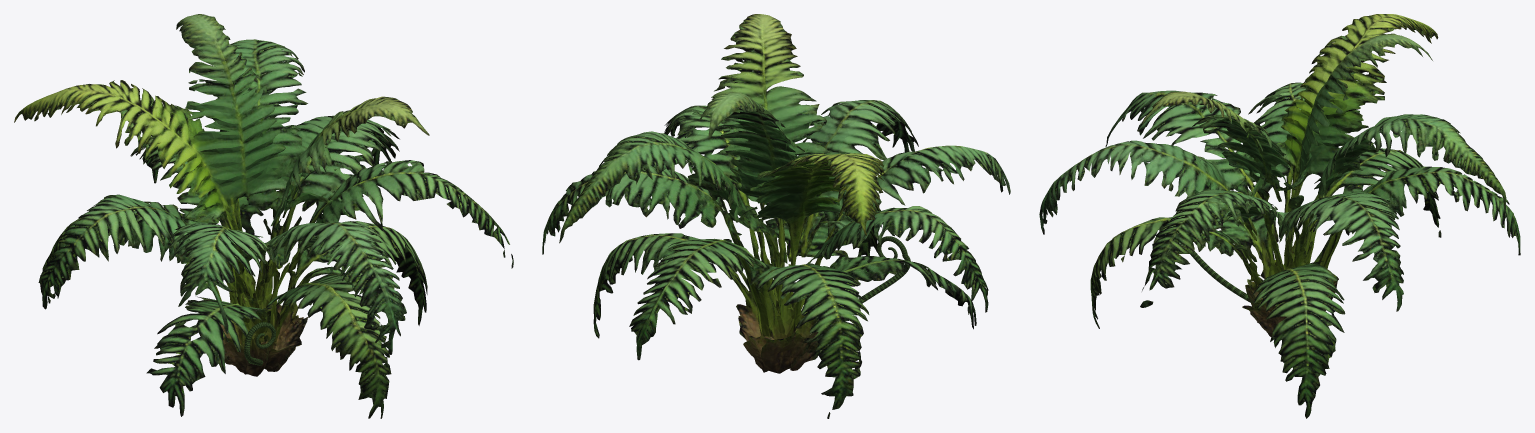
3 renders of one model, left to right at view 1: azimuth 30°, elevation 25°; view 2: azimuth 150°, elevation 25°; view 3: azimuth 270°, elevation 25°, orthographic. The views are drawn at different scales.
Parts seen in each view (by area): view 1: geometry_0; view 2: geometry_0; view 3: geometry_0.
Boxes of the visible parts, x1,y1,x2,y2 form: geometry_0: (14,14,513,418); geometry_0: (542,14,1010,418); geometry_0: (1039,14,1520,418).
Bounding box in the file's own units: 0.8978 × 0.6898 × 0.9987.
Materials: 1 (1 with a texture image).
